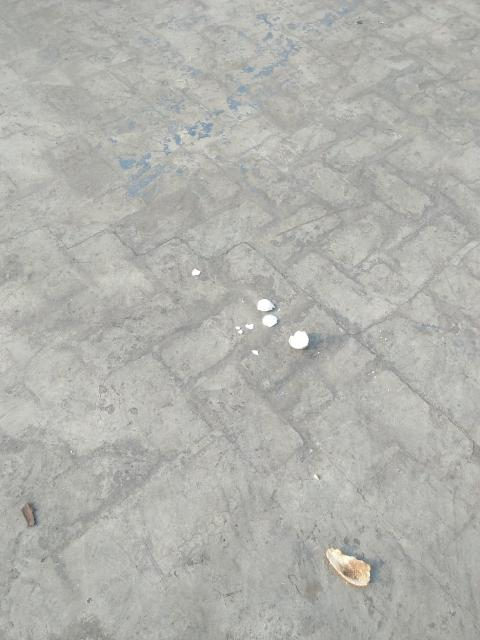Roto: (288, 330, 309, 350), (256, 298, 275, 312), (261, 313, 278, 328), (191, 268, 201, 276)
